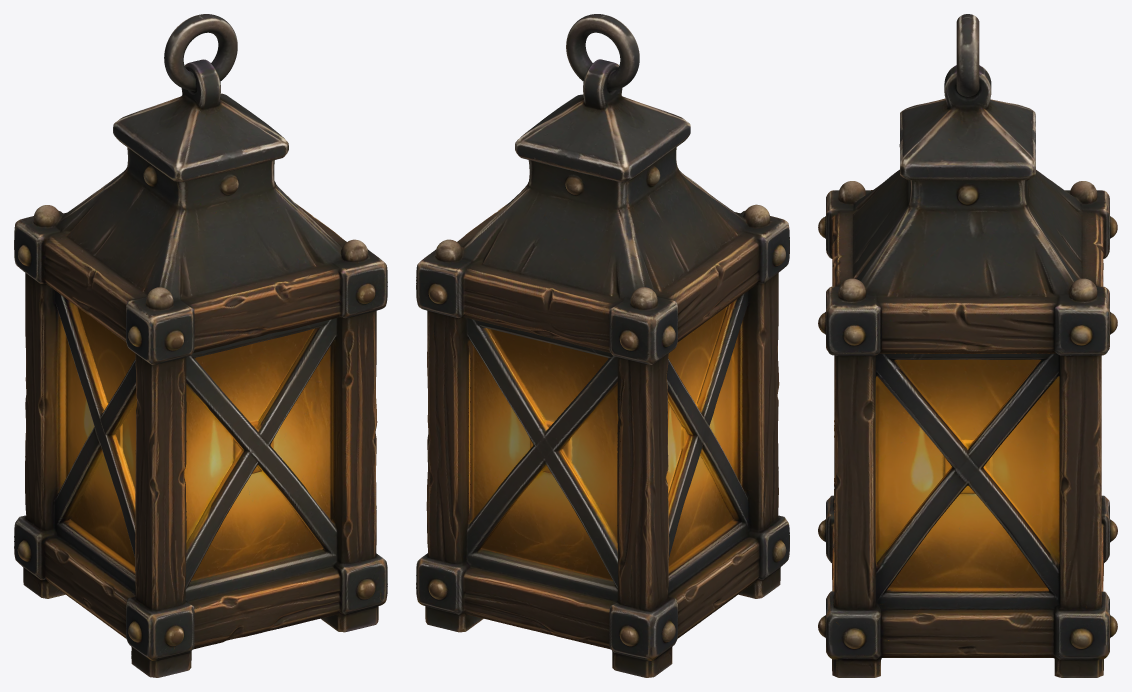
Rendered from furniture_05.glb.
3 renders of one model, left to right at view 1: azimuth 30°, elevation 25°; view 2: azimuth 150°, elevation 25°; view 3: azimuth 270°, elevation 25°, orthographic. The views are drawn at different scales.
Size of the model in its own units: 0.8563 by 1.9 by 0.8565.
Materials: 1 (1 with a texture image).
